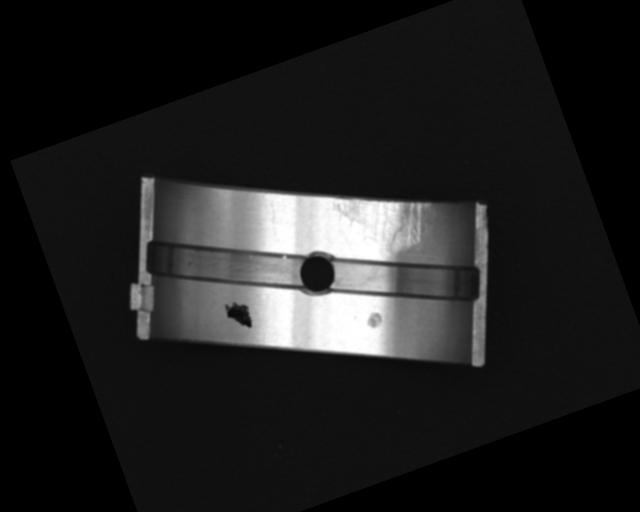blot: (221, 295, 256, 334)
bruise: (363, 308, 385, 330)
gap: (140, 196, 316, 334), (323, 213, 490, 343)
hole: (288, 244, 344, 303)
nick: (259, 196, 286, 238)
scratch: (329, 166, 444, 269)
